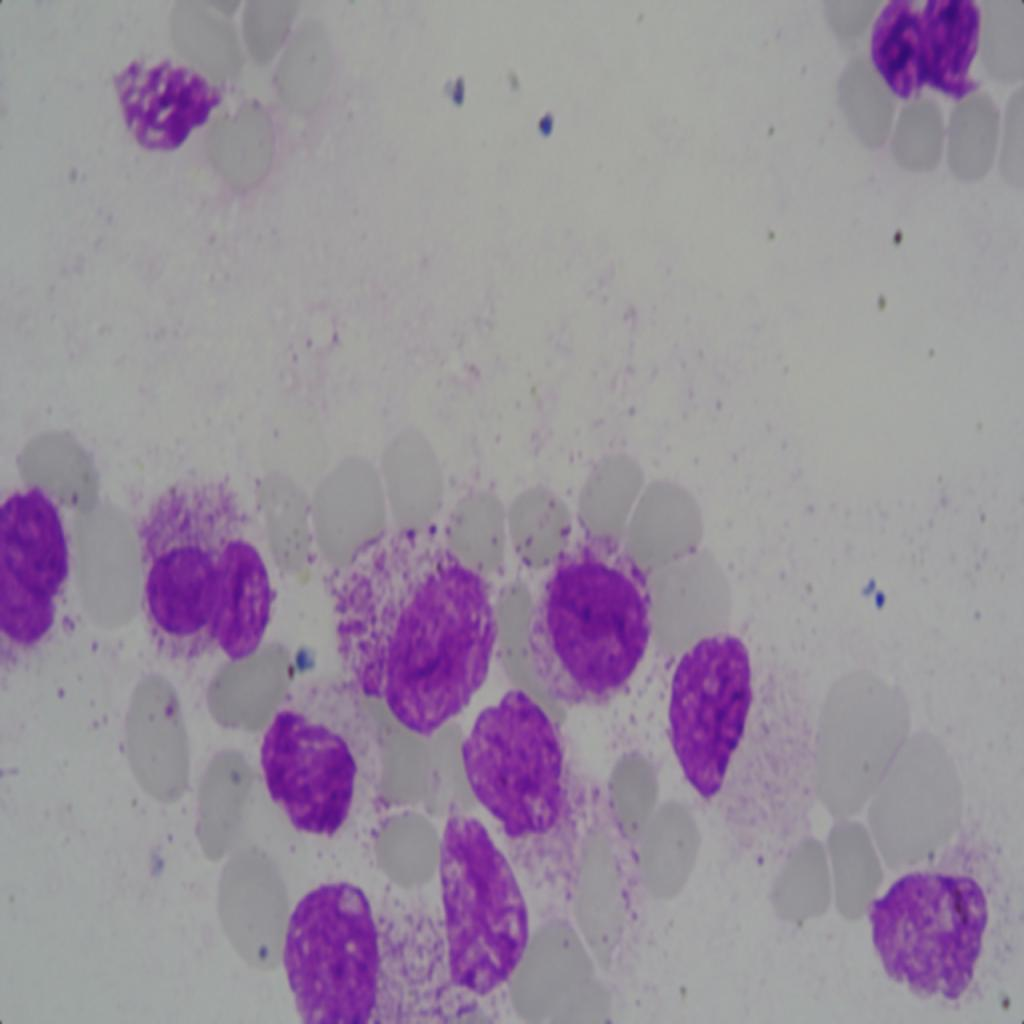Myeoblast: (374, 551, 494, 754), (543, 530, 656, 717), (430, 811, 534, 1006), (659, 611, 757, 810), (870, 854, 994, 1000), (860, 0, 993, 135), (465, 684, 573, 848), (279, 864, 384, 1023), (260, 690, 367, 844), (0, 475, 86, 662), (199, 521, 283, 676), (138, 521, 214, 644)
